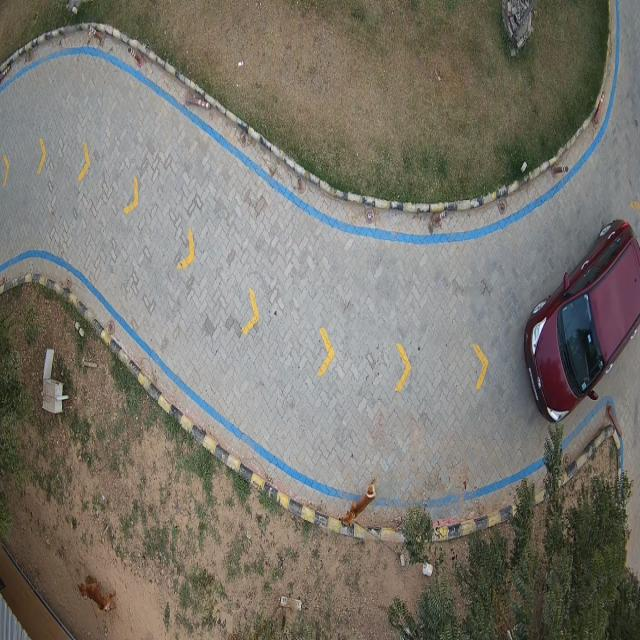car: (525, 221, 640, 421)
